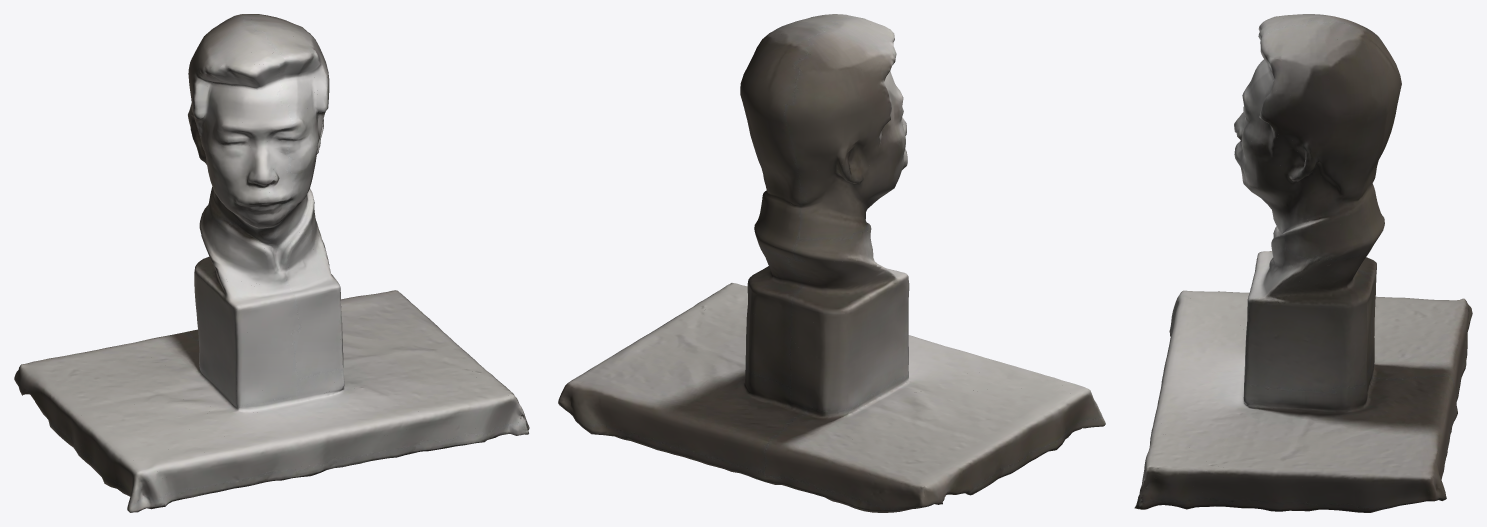
File: 石膏头像_男中青年_鲁迅胸像01_opt.glb
The picture shows the model from 3 angles, left to right: view 1: azimuth 30°, elevation 25°; view 2: azimuth 150°, elevation 25°; view 3: azimuth 270°, elevation 25°; orthographic projection. The views are drawn at different scales.
Visible parts, largest first — view 1: surfaceShader13SG, surfaceShader13SG_1; view 2: surfaceShader13SG, surfaceShader13SG_1; view 3: surfaceShader13SG, surfaceShader13SG_1.
Boxes of the visible parts, box(x1,y1,x2,y2) form: surfaceShader13SG: box(14, 14, 529, 512); surfaceShader13SG_1: box(16, 16, 528, 502); surfaceShader13SG: box(558, 14, 1105, 512); surfaceShader13SG_1: box(562, 17, 1102, 511); surfaceShader13SG: box(1134, 14, 1472, 512); surfaceShader13SG_1: box(1136, 18, 1468, 508).
Size of the model in its own units: 0.3229 by 0.3 by 0.2319.
Materials: 1 (1 with a texture image).
